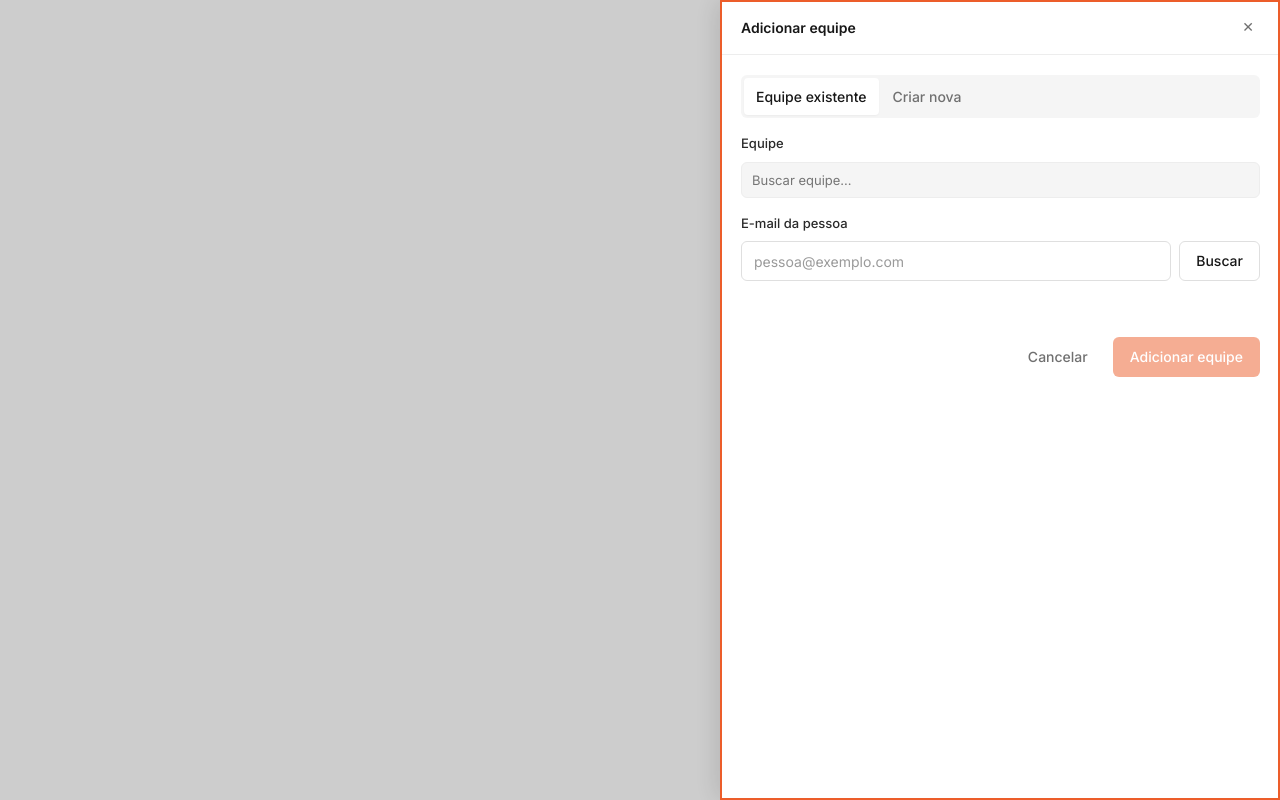
Test: TeamOnboardingDrawer › replaces the picker with a name field on the new-team branch
Click the tab "Criar nova" at (927, 96), box 881,78 -> 974,115
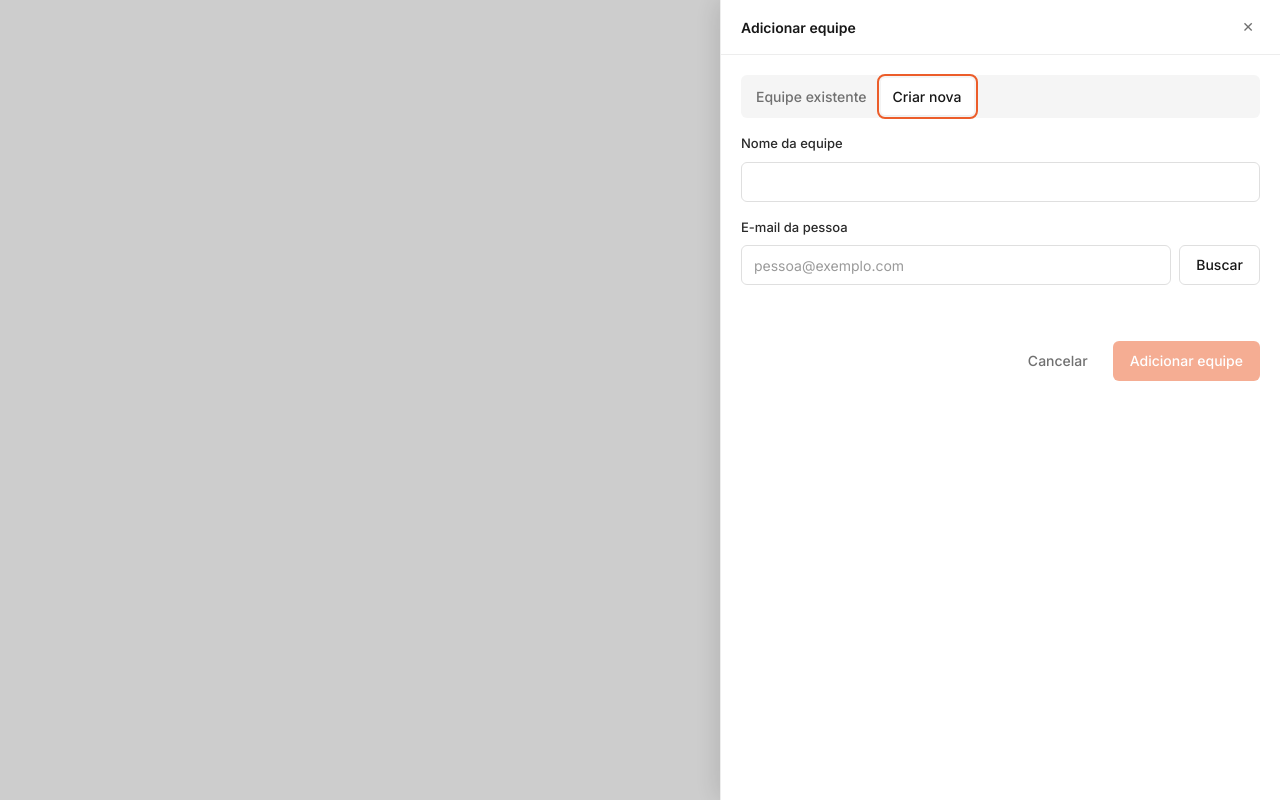
Expected: the field labelled "Nome da equipe" is shown, 741,162 -> 1260,202
